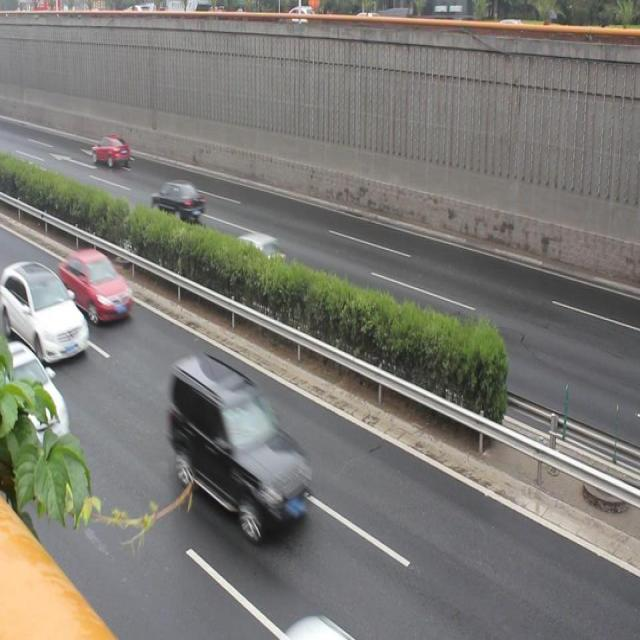car: (170, 350, 309, 529), (1, 344, 78, 464), (0, 258, 84, 361), (59, 247, 135, 324), (230, 226, 292, 280), (150, 174, 204, 220), (89, 130, 132, 171)
